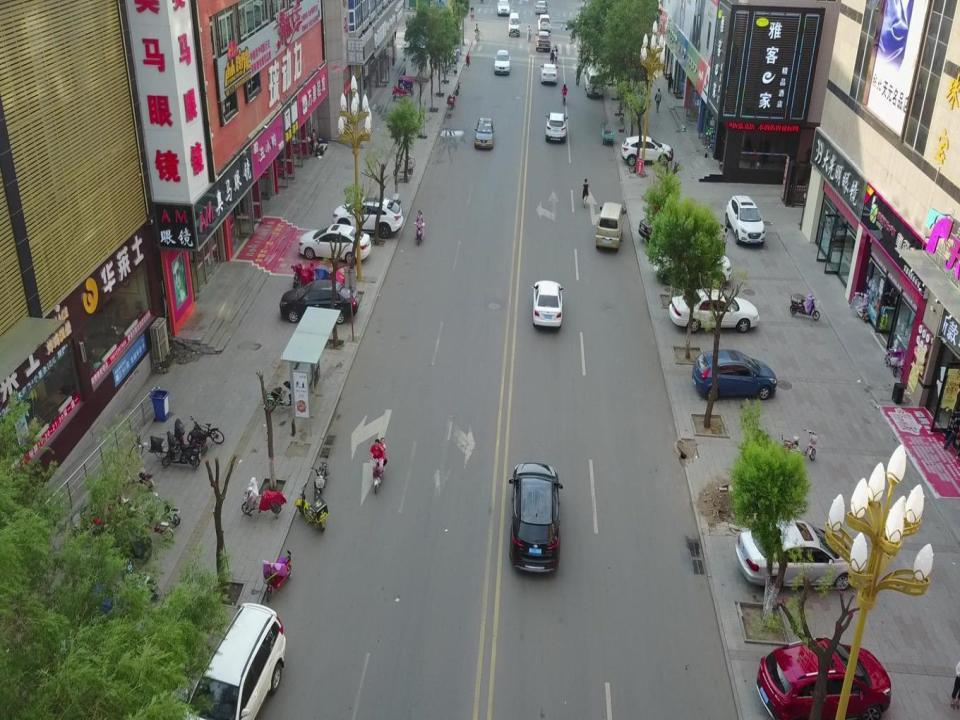car: (757, 637, 890, 720), (736, 519, 860, 593), (693, 350, 776, 401), (669, 288, 760, 333), (280, 278, 358, 324), (653, 244, 731, 286), (299, 223, 371, 265), (333, 198, 403, 238), (638, 209, 696, 247), (474, 118, 494, 148), (541, 64, 558, 85), (497, 0, 510, 16), (535, 0, 549, 14)
van: (174, 602, 286, 720), (508, 461, 562, 573), (725, 196, 765, 246), (531, 280, 564, 328), (621, 136, 671, 166), (596, 202, 626, 252), (546, 112, 568, 143), (583, 67, 604, 97), (493, 50, 511, 75), (535, 30, 551, 52), (508, 12, 520, 37), (537, 14, 551, 31)
